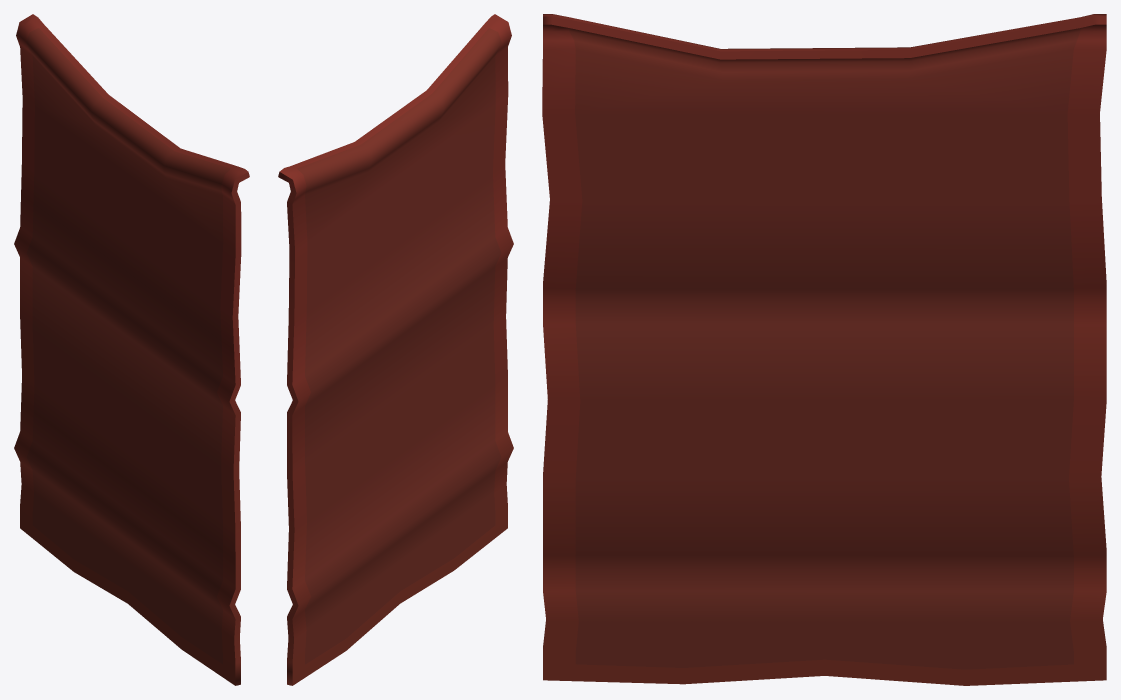
File: Scaffold_sheet_2_7.fbx
3 views of the same model, side by side, from view 1: azimuth 30°, elevation 25°; view 2: azimuth 150°, elevation 25°; view 3: azimuth 270°, elevation 25° (orthographic). The views are drawn at different scales.
Parts seen in each view (by area): view 1: Scaffold_sheet_2_7; view 2: Scaffold_sheet_2_7; view 3: Scaffold_sheet_2_7.
Part boxes in pixels (x1,y1,x2,y2): Scaffold_sheet_2_7: (14,14,249,685); Scaffold_sheet_2_7: (278,14,513,685); Scaffold_sheet_2_7: (542,14,1106,685).
Bounding box in the file's own units: 10.1 × 242 × 184.
